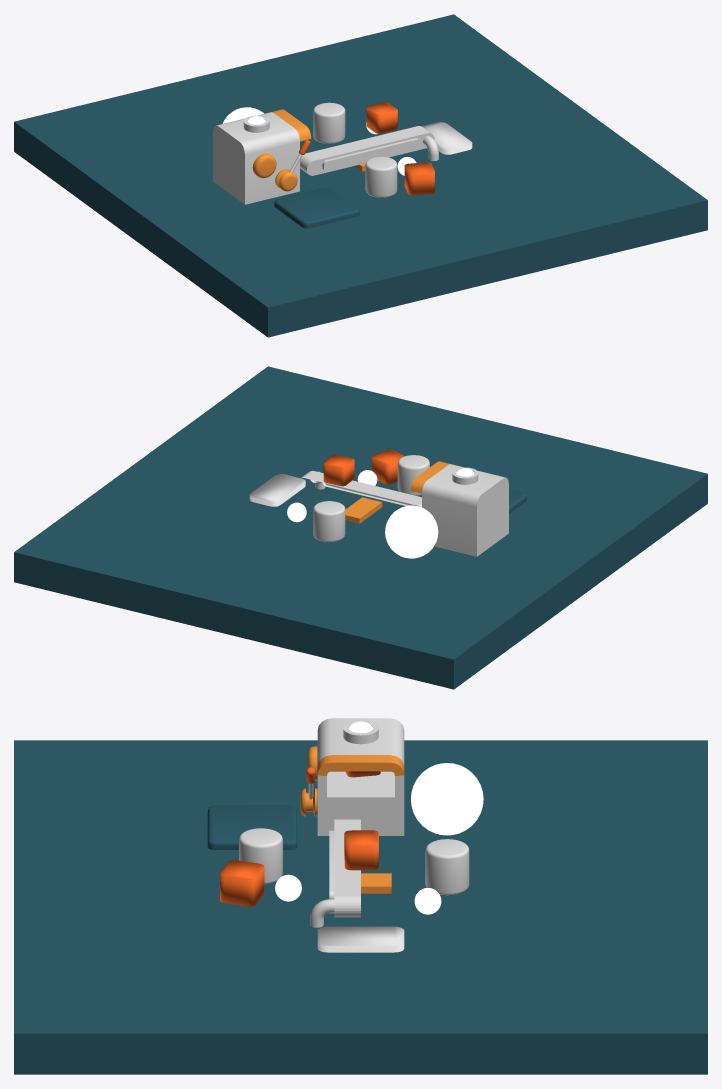
The model's file is 098-belt.gltf.
3 views of the same model, one above another, from view 1: azimuth 30°, elevation 25°; view 2: azimuth 150°, elevation 25°; view 3: azimuth 270°, elevation 25° (orthographic). The views are drawn at different scales.
Visible parts, largest first — view 1: Plane.008, Plane.004, Plane.007, Plane.002, Cylinder.002, Cylinder.001, Plane.003, Plane.009, Plane.006, Plane.013; view 2: Plane.008, Plane.004, Roundcube, Cylinder.001, Plane.009, Plane.002, Cylinder.002, Plane.013, Plane.006, Plane.001; view 3: Plane.008, Plane.004, Roundcube, Plane.007, Plane.009, Cylinder.001, Plane.002, Plane.006, Cylinder.002, Plane.011, Plane.013, Plane.001 (+3 smaller).
Part boxes in pixels (x1,y1,x2,y2): Plane.008: (14,14,707,337); Plane.004: (213,112,299,204); Plane.007: (274,187,359,228); Plane.002: (300,126,434,175); Cylinder.002: (365,156,397,197); Cylinder.001: (313,102,345,143); Plane.003: (322,138,420,171); Plane.009: (421,122,472,154); Plane.006: (404,162,434,195); Plane.013: (366,102,397,133); Plane.008: (14,366,707,689); Plane.004: (422,464,508,556); Roundcube: (385,505,438,558); Cylinder.001: (313,501,345,541); Plane.009: (249,474,305,506); Plane.002: (300,470,421,507); Cylinder.002: (397,455,429,495); Plane.013: (323,454,354,486); Plane.006: (371,449,404,484); Plane.001: (345,497,382,523); Plane.008: (14,740,707,1074); Plane.004: (317,718,404,835); Roundcube: (411,763,483,835); Plane.007: (207,805,296,849); Plane.009: (317,926,404,952); Cylinder.001: (425,839,469,895); Plane.002: (334,819,360,917); Plane.006: (220,860,264,906); Cylinder.002: (239,828,282,884); Plane.011: (317,755,404,775); Plane.013: (344,830,378,870); Plane.001: (361,873,391,893).
Size of the model in its own units: 15.96 by 5.4 by 15.96.
